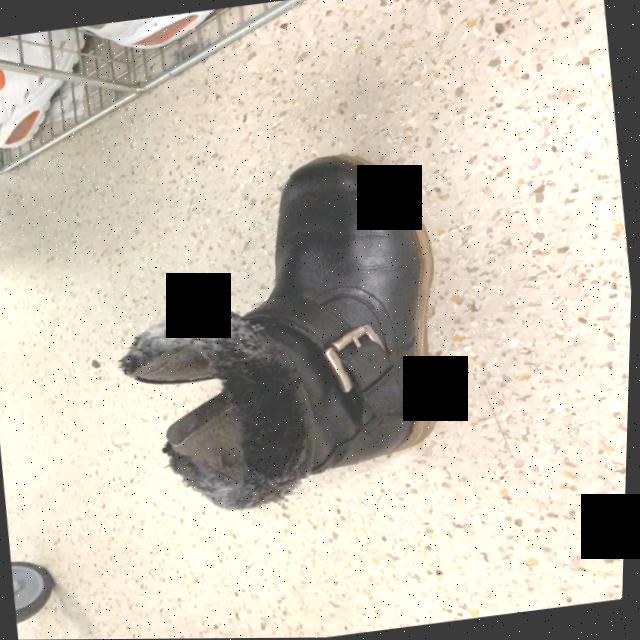shoe: (255, 154, 445, 477)
